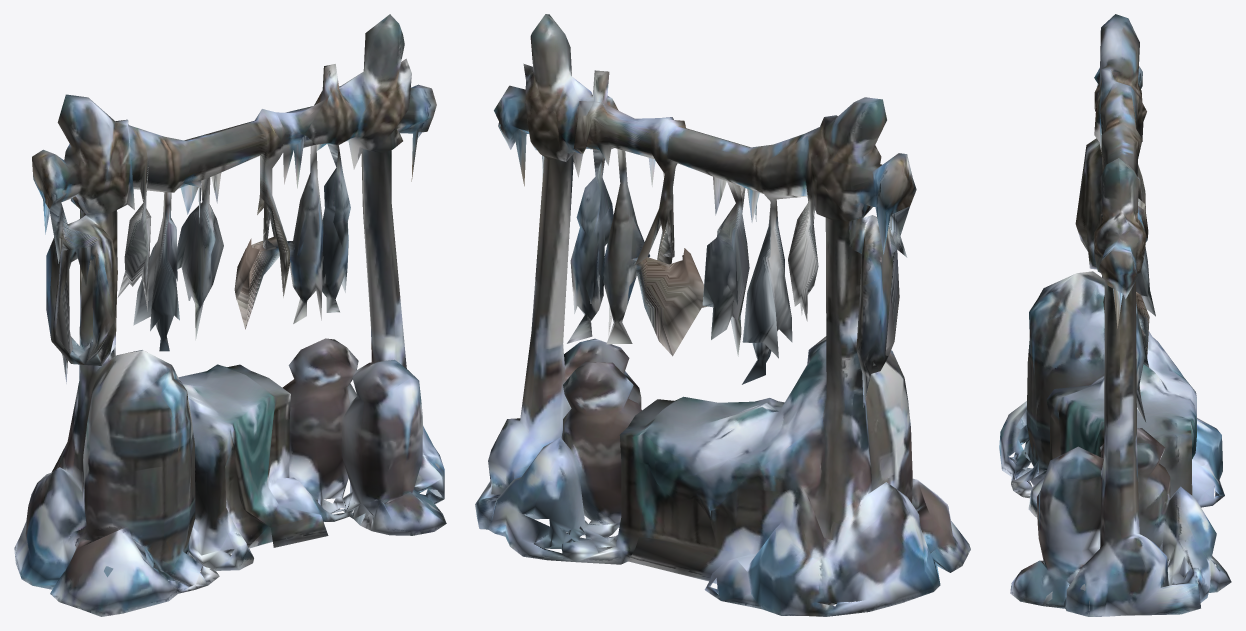
Rendered from SM_Tripo_FrostSeaFishRack.glb.
3 views of the same model, side by side, from view 1: azimuth 30°, elevation 25°; view 2: azimuth 150°, elevation 25°; view 3: azimuth 270°, elevation 25° (orthographic). The views are drawn at different scales.
Visible parts, largest first — view 1: SM_Tripo_FrostSeaFishRack_LOD0; view 2: SM_Tripo_FrostSeaFishRack_LOD0; view 3: SM_Tripo_FrostSeaFishRack_LOD0.
Boxes of the visible parts, x1,y1,x2,y2 form: SM_Tripo_FrostSeaFishRack_LOD0: (14,14,446,616); SM_Tripo_FrostSeaFishRack_LOD0: (475,14,970,616); SM_Tripo_FrostSeaFishRack_LOD0: (999,14,1231,616).
Size of what is drawn, in the model's own units: 1.41 by 1.54 by 0.73.
Materials: 1 (1 with a texture image).
